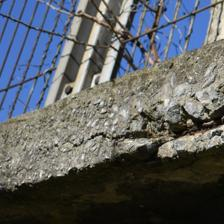Crack: (34, 49, 188, 115)
